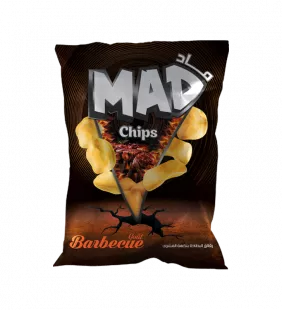MAD: (45, 35, 236, 276)
